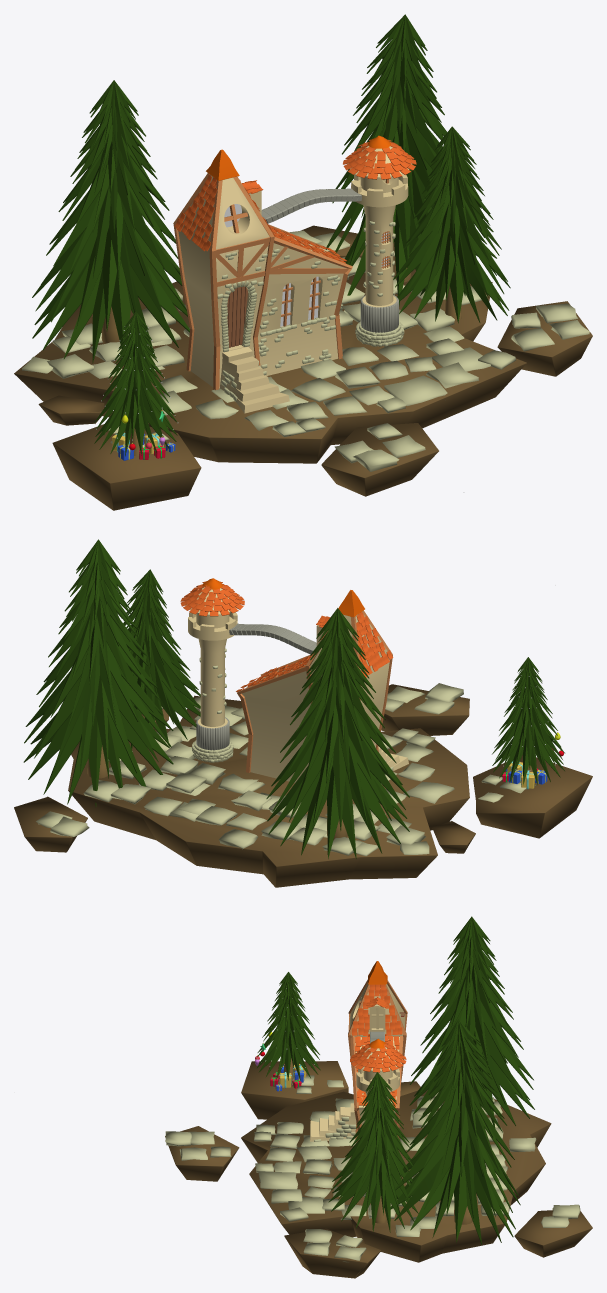
File: tnak33.fbx
3 views of the same model, one above another, from view 1: azimuth 30°, elevation 25°; view 2: azimuth 150°, elevation 25°; view 3: azimuth 270°, elevation 25° (orthographic). The views are drawn at different scales.
Visible parts, largest first — view 1: tree, ground, tomet, homwall.002, woodhome.002, Cube.786, homwall.001, brick, homwall, kamurj, towerstone.001, door (+3 smaller); view 2: tree, ground, tomet, homwall.002, homwall.001, Cube.786, woodhome.002, kamurj, towerstone.001, brick, roof, barck; view 3: tree, ground, tomet, Cube.786, woodhome.002, homwall, homwall.002, homwall.001, roof.
Boxes of the visible parts, x1=… form: tree: x1=32, y1=14, x2=510, y2=456; ground: x1=14, y1=225, x2=592, y2=510; tomet: x1=22, y1=230, x2=589, y2=471; homwall.002: x1=178, y1=175, x2=345, y2=388; woodhome.002: x1=173, y1=173, x2=391, y2=390; Cube.786: x1=174, y1=139, x2=416, y2=263; homwall.001: x1=347, y1=146, x2=412, y2=307; brick: x1=217, y1=221, x2=404, y2=401; homwall: x1=220, y1=347, x2=289, y2=413; kamurj: x1=261, y1=188, x2=361, y2=223; towerstone.001: x1=360, y1=295, x2=398, y2=332; door: x1=227, y1=286, x2=247, y2=347; tree: x1=23, y1=539, x2=564, y2=858; ground: x1=14, y1=684, x2=592, y2=887; tomet: x1=36, y1=683, x2=525, y2=856; homwall.002: x1=242, y1=614, x2=389, y2=782; homwall.001: x1=185, y1=587, x2=240, y2=728; Cube.786: x1=180, y1=581, x2=393, y2=691; woodhome.002: x1=237, y1=610, x2=392, y2=800; kamurj: x1=229, y1=623, x2=316, y2=654; towerstone.001: x1=196, y1=717, x2=229, y2=750; brick: x1=192, y1=648, x2=393, y2=775; roof: x1=202, y1=578, x2=364, y2=617; barck: x1=87, y1=714, x2=532, y2=840; tree: x1=257, y1=916, x2=534, y2=1244; ground: x1=165, y1=1061, x2=592, y2=1278; tomet: x1=165, y1=1075, x2=580, y2=1262; Cube.786: x1=350, y1=984, x2=406, y2=1110; woodhome.002: x1=348, y1=979, x2=407, y2=1142; homwall: x1=310, y1=1103, x2=356, y2=1141; homwall.002: x1=349, y1=983, x2=405, y2=1139; homwall.001: x1=353, y1=1047, x2=402, y2=1102; roof: x1=368, y1=961, x2=387, y2=1048.
Bounding box in the file's own units: 25.93 × 14.01 × 31.82.
